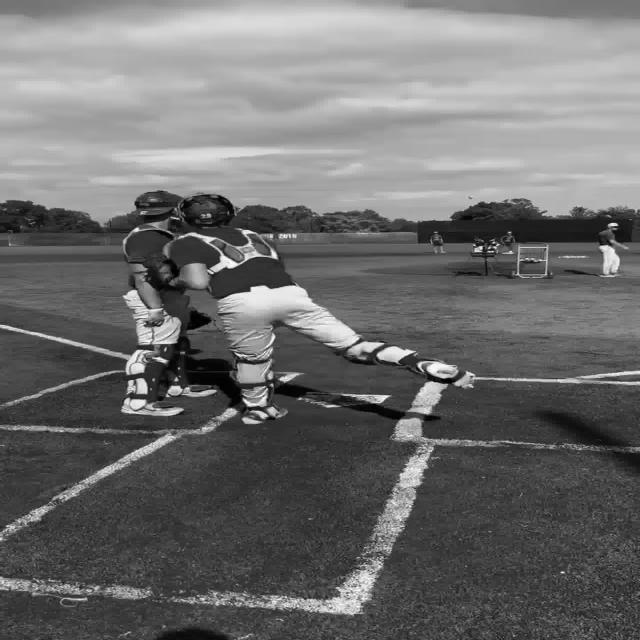base: (303, 390, 387, 407)
baseball: (468, 196, 475, 198)
baseball_glove: (142, 252, 180, 290)
shoe: (415, 359, 475, 389), (120, 398, 184, 417), (240, 402, 288, 424), (165, 383, 218, 398), (597, 273, 615, 277)
